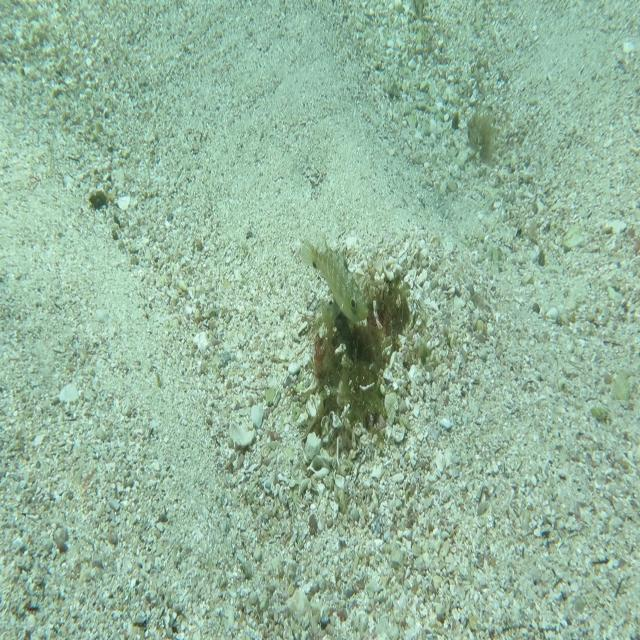FAN: (300, 234, 370, 322)
core_nest: (358, 298, 398, 337)
female: (411, 0, 427, 23)
nest: (291, 256, 421, 469)
vegetation: (467, 104, 498, 173), (88, 188, 109, 212)
